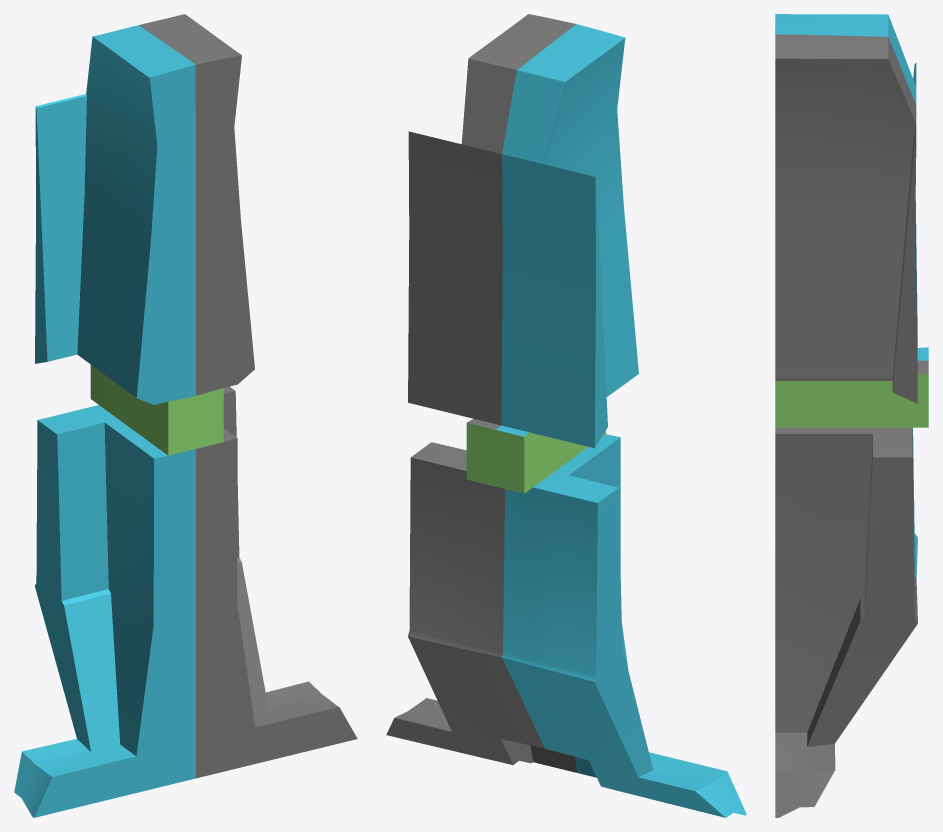
Rendered from T2_ColumnInOut.fbx.
3 views of the same model, side by side, from view 1: azimuth 30°, elevation 25°; view 2: azimuth 150°, elevation 25°; view 3: azimuth 270°, elevation 25° (orthographic). The views are drawn at different scales.
Parts seen in each view (by area): view 1: T2_PillarInOut; view 2: T2_PillarInOut; view 3: T2_PillarInOut.
Part boxes in pixels (bbox=[...]): T2_PillarInOut: bbox=[14, 14, 357, 817]; T2_PillarInOut: bbox=[386, 14, 746, 817]; T2_PillarInOut: bbox=[775, 14, 928, 817].
Size of the model in its own units: 119 by 250 by 49.24.
